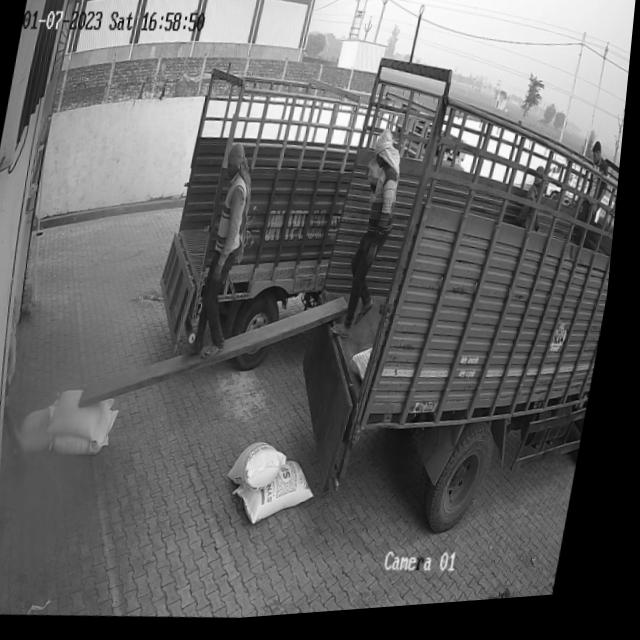sack: (236, 458, 330, 536), (52, 386, 125, 445), (57, 405, 129, 461), (235, 441, 299, 498), (24, 404, 67, 458)
